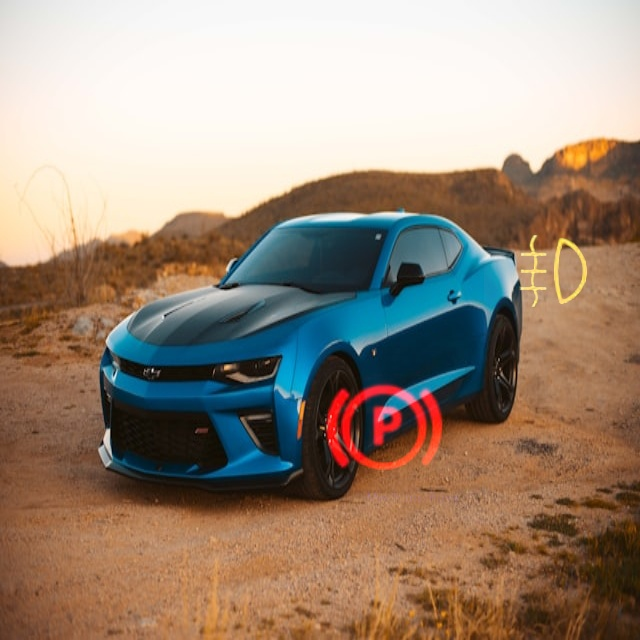symbol: (302, 348, 465, 511), (484, 201, 626, 343)
